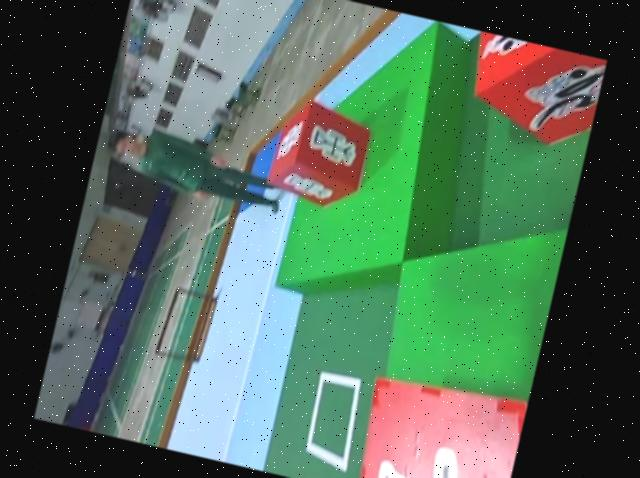R1: (454, 30, 607, 157)
R2 Real: (343, 363, 528, 478), (261, 91, 377, 214)
